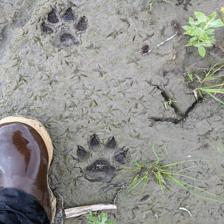wolf: (71, 134, 133, 183), (36, 7, 97, 51)
